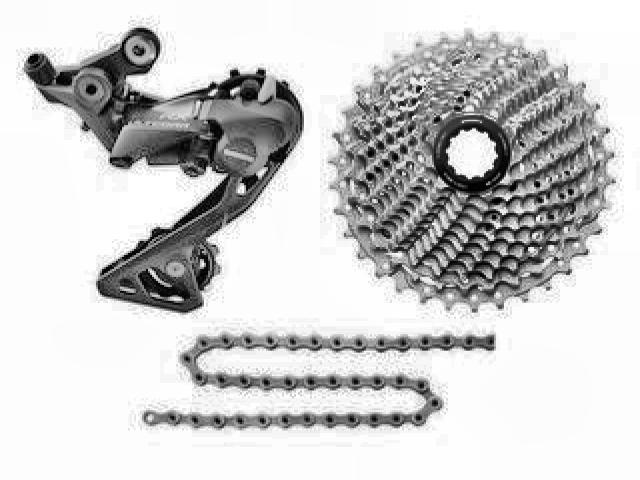cassette: (327, 30, 616, 314)
rear_derailleur: (20, 24, 308, 315)
